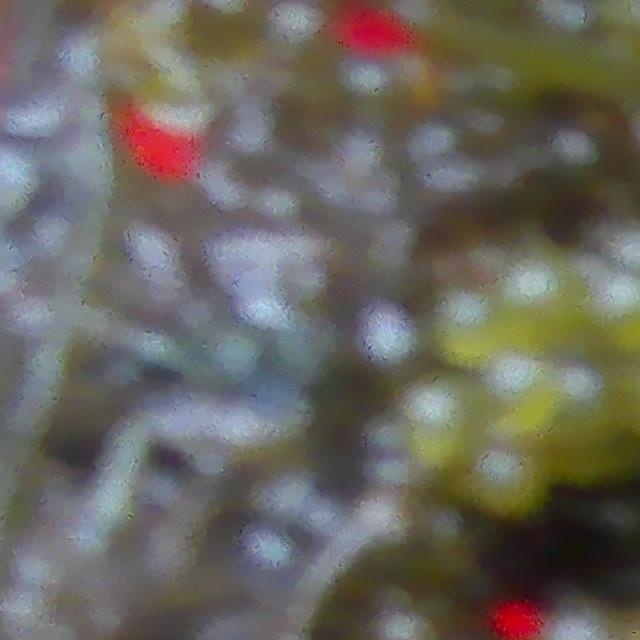SeaGrape: (471, 445, 550, 520)
